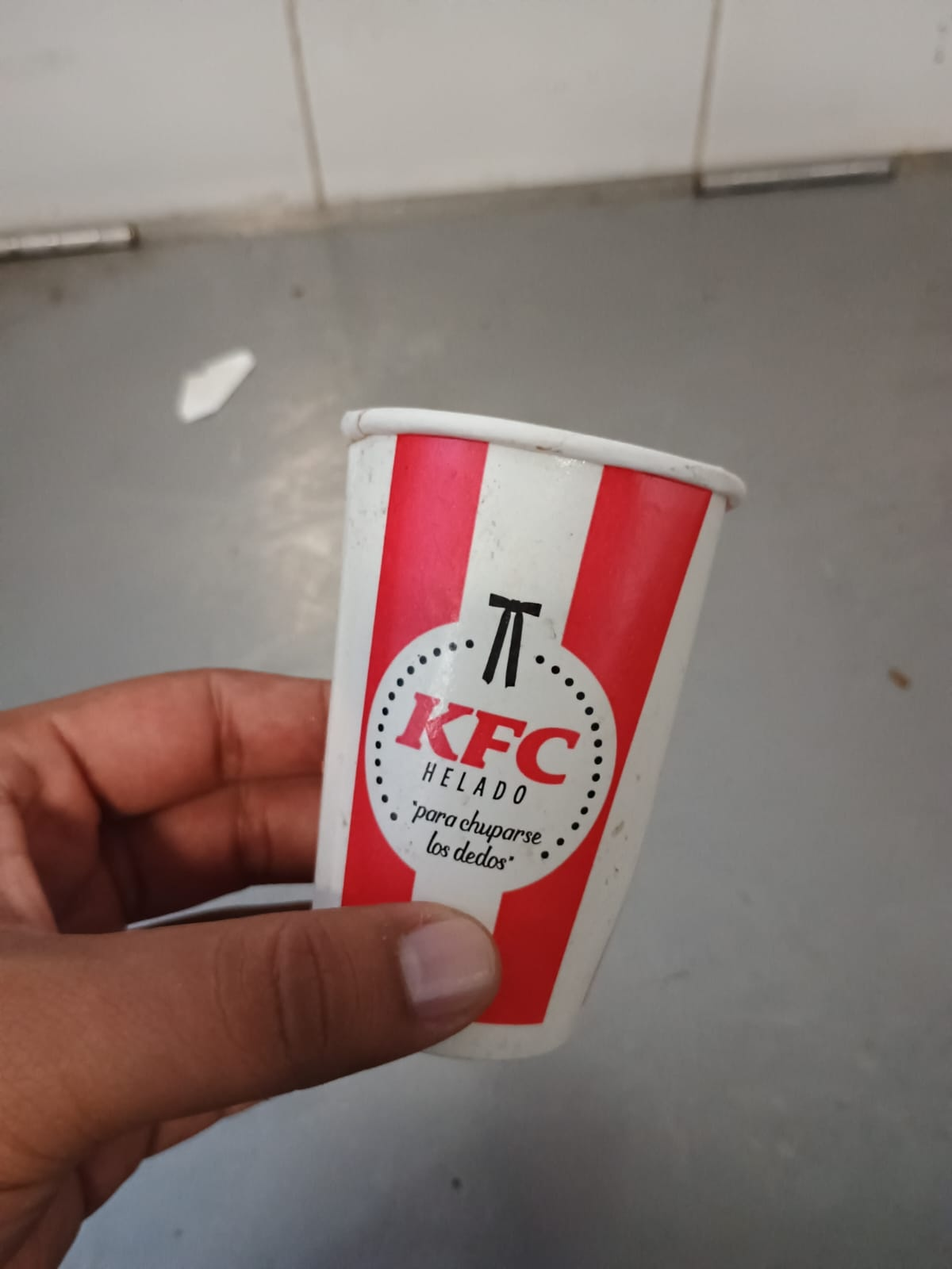Carton: (319, 402, 744, 1064)
